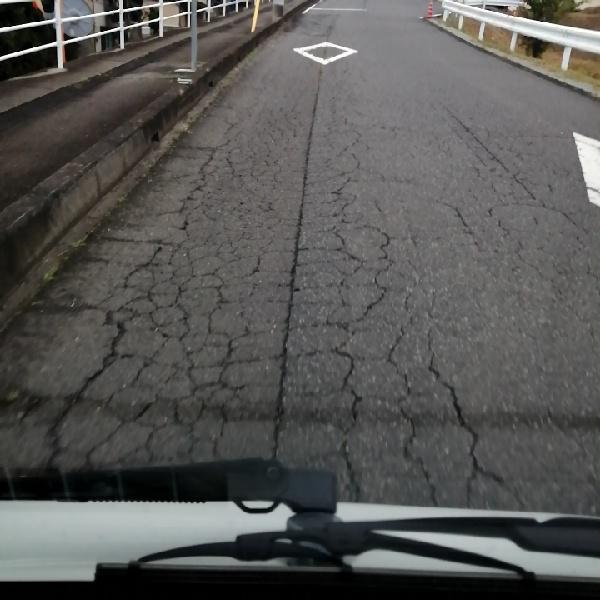D20: (15, 67, 588, 519)
